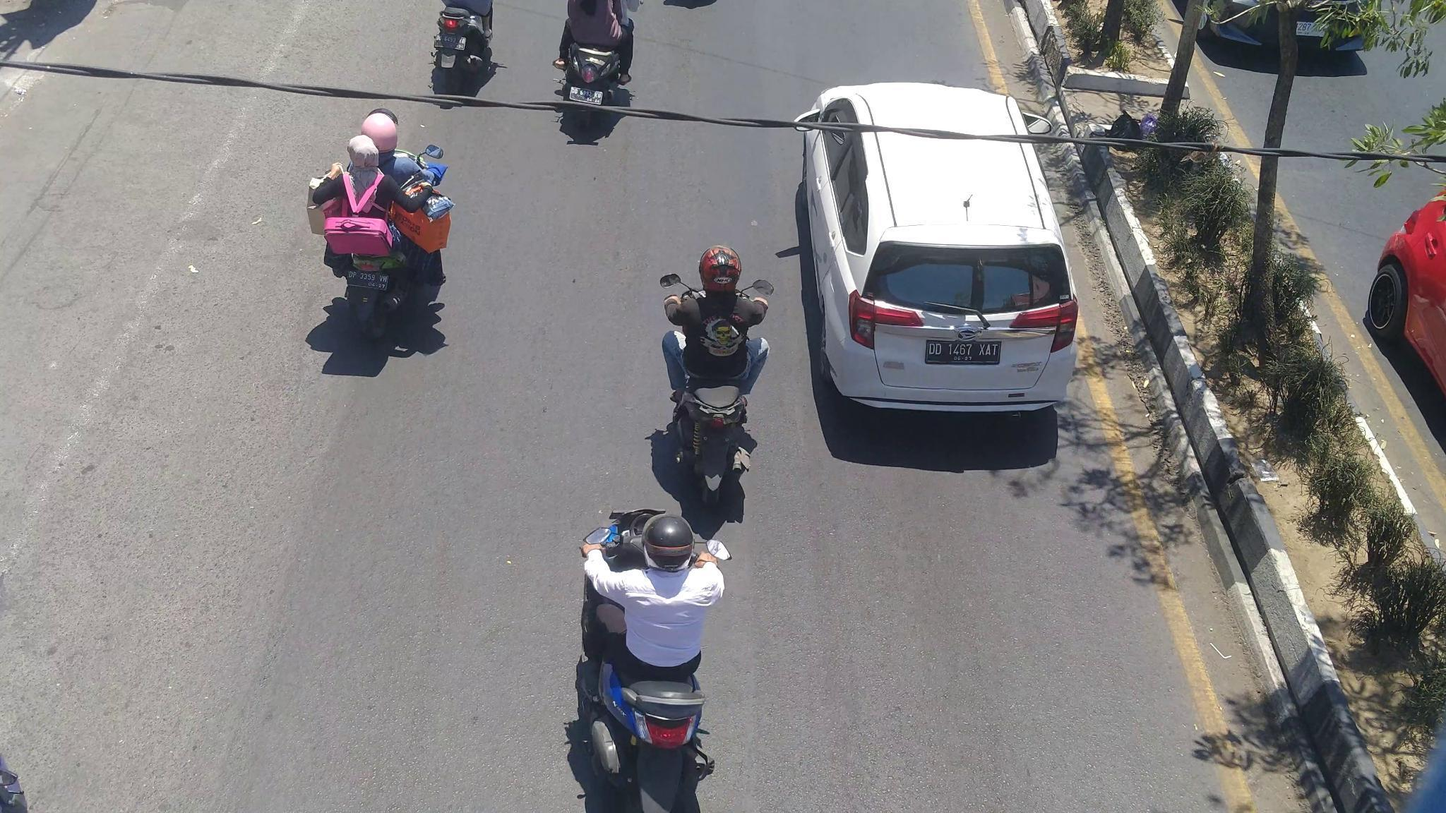Helmet: (635, 501, 700, 583), (691, 239, 753, 299), (357, 107, 403, 160)
bike: (573, 507, 731, 813), (657, 272, 775, 514), (320, 135, 449, 349), (556, 0, 630, 131), (429, 1, 496, 94)
no-helmet: (343, 131, 387, 175)
number-plate: (344, 267, 391, 292)
rider: (586, 503, 729, 679), (664, 243, 772, 403), (311, 133, 437, 254)
